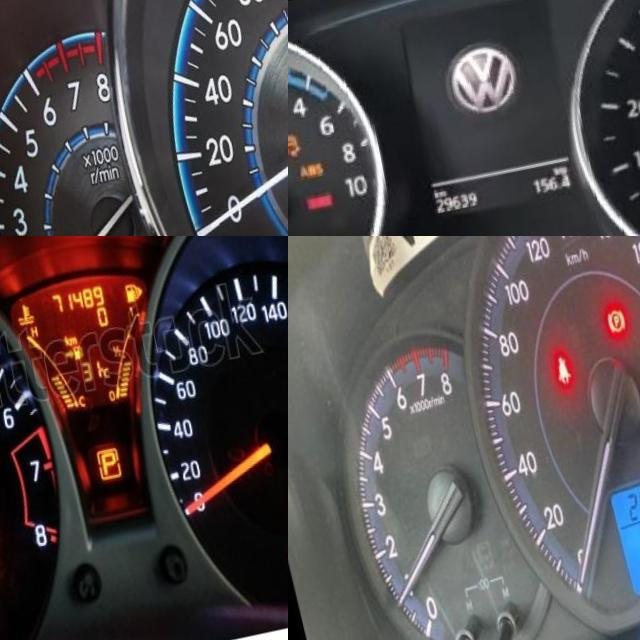Seat Belt: (540, 368, 559, 400)
